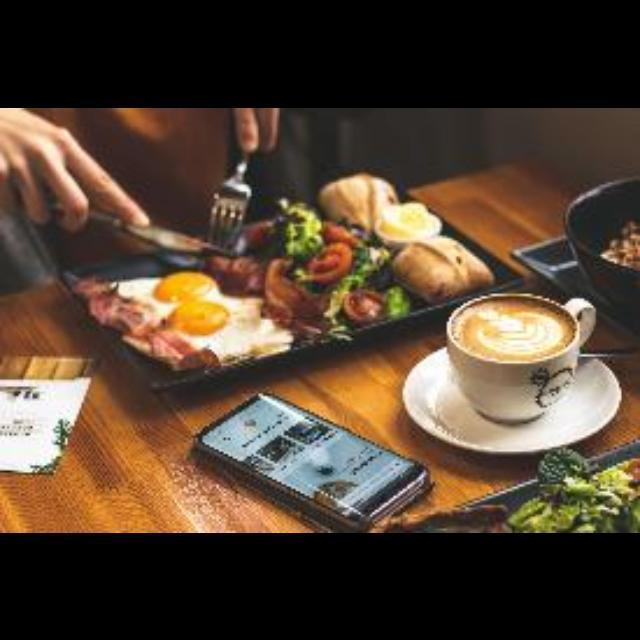phone: (175, 385, 444, 533)
